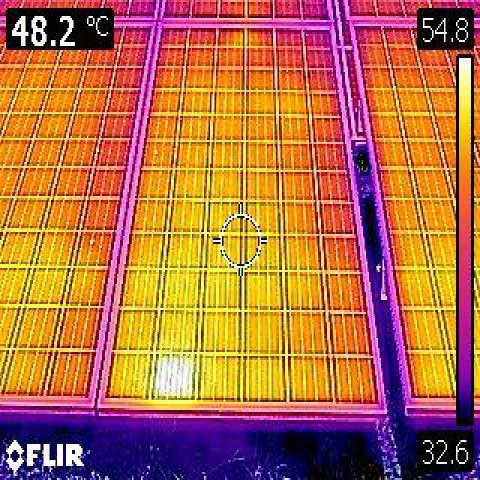fault: (154, 351, 193, 401)
